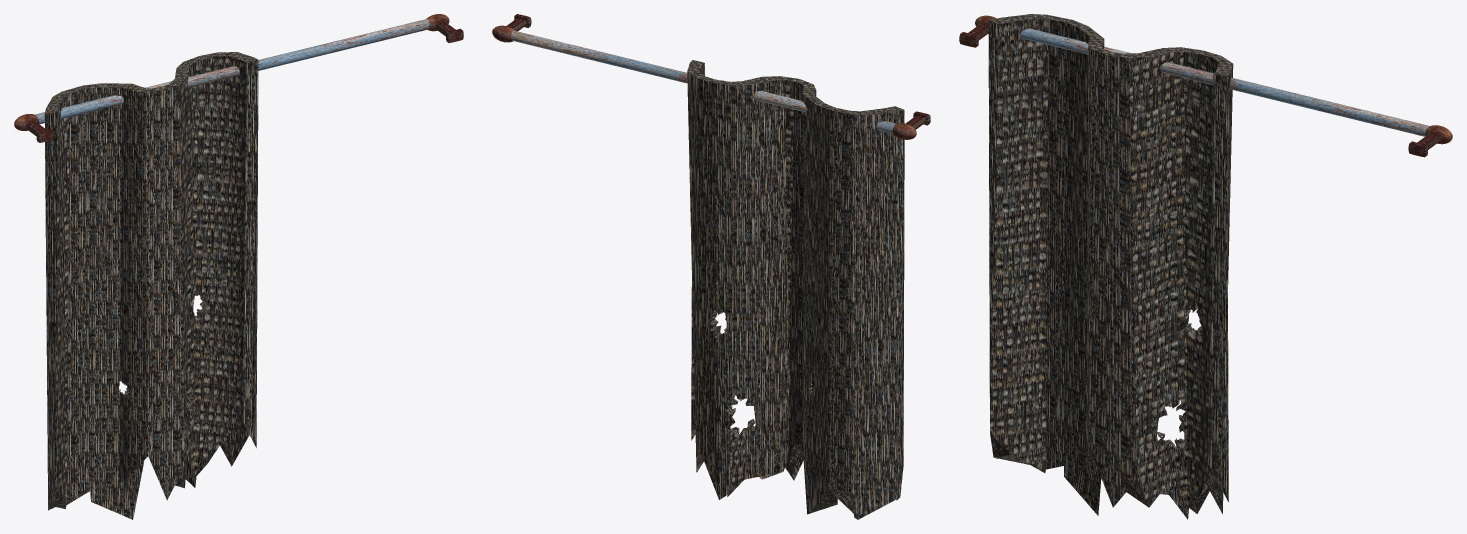
File: CurtainsKitchen.glb
3 views of the same model, side by side, from view 1: azimuth 30°, elevation 25°; view 2: azimuth 150°, elevation 25°; view 3: azimuth 330°, elevation 25° (orthographic). The views are drawn at different scales.
Parts seen in each view (by area): view 1: curtain kitchen; view 2: curtain kitchen; view 3: curtain kitchen.
Part boxes in pixels (x1=…): curtain kitchen: x1=14, y1=14, x2=463, y2=519; curtain kitchen: x1=492, y1=14, x2=930, y2=519; curtain kitchen: x1=959, y1=14, x2=1452, y2=519.
Size of the model in its own units: 16.79 by 16.02 by 2.19.
3 materials, 3 textured.
